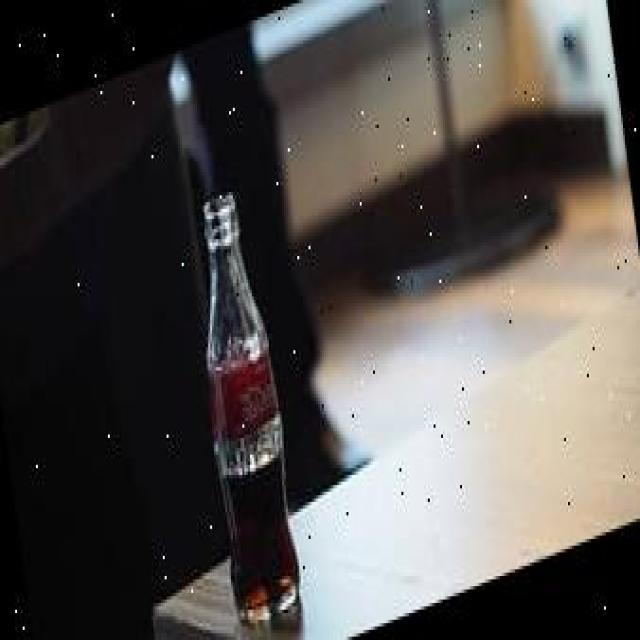coca-cola: (180, 172, 310, 636)
